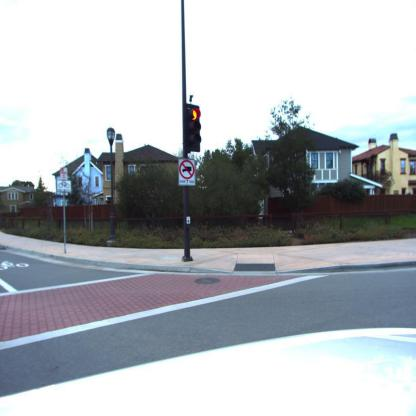sign: (178, 160, 198, 188)
traffic light: (183, 104, 201, 154)
